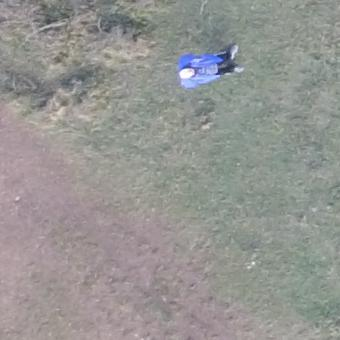human: (176, 42, 243, 91)
